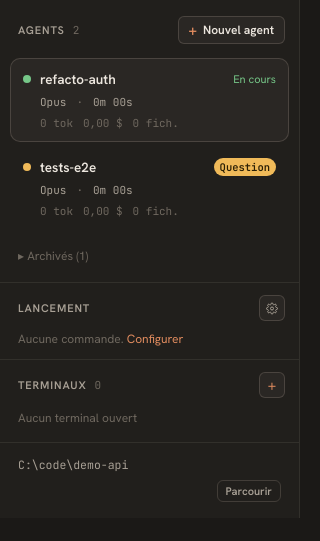
Sidebar › cancels a rename with Escape
Double-click the text "refacto-auth": (78, 79) top-left (40, 70), bottom-right (116, 88)
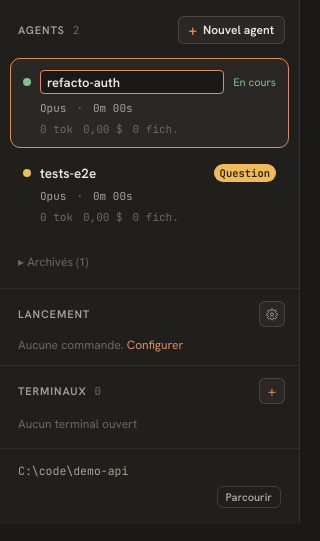
In the field showing "refacto-auth": (132, 82) top-left (40, 70), bottom-right (224, 94), type "xx"
Then press Escape
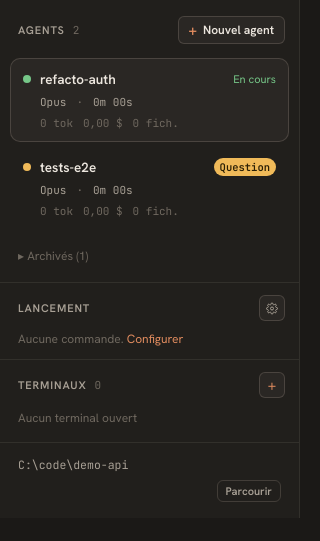
expect the text "refacto-auth" is shown: met, box top-left (40, 70), bottom-right (116, 88)
